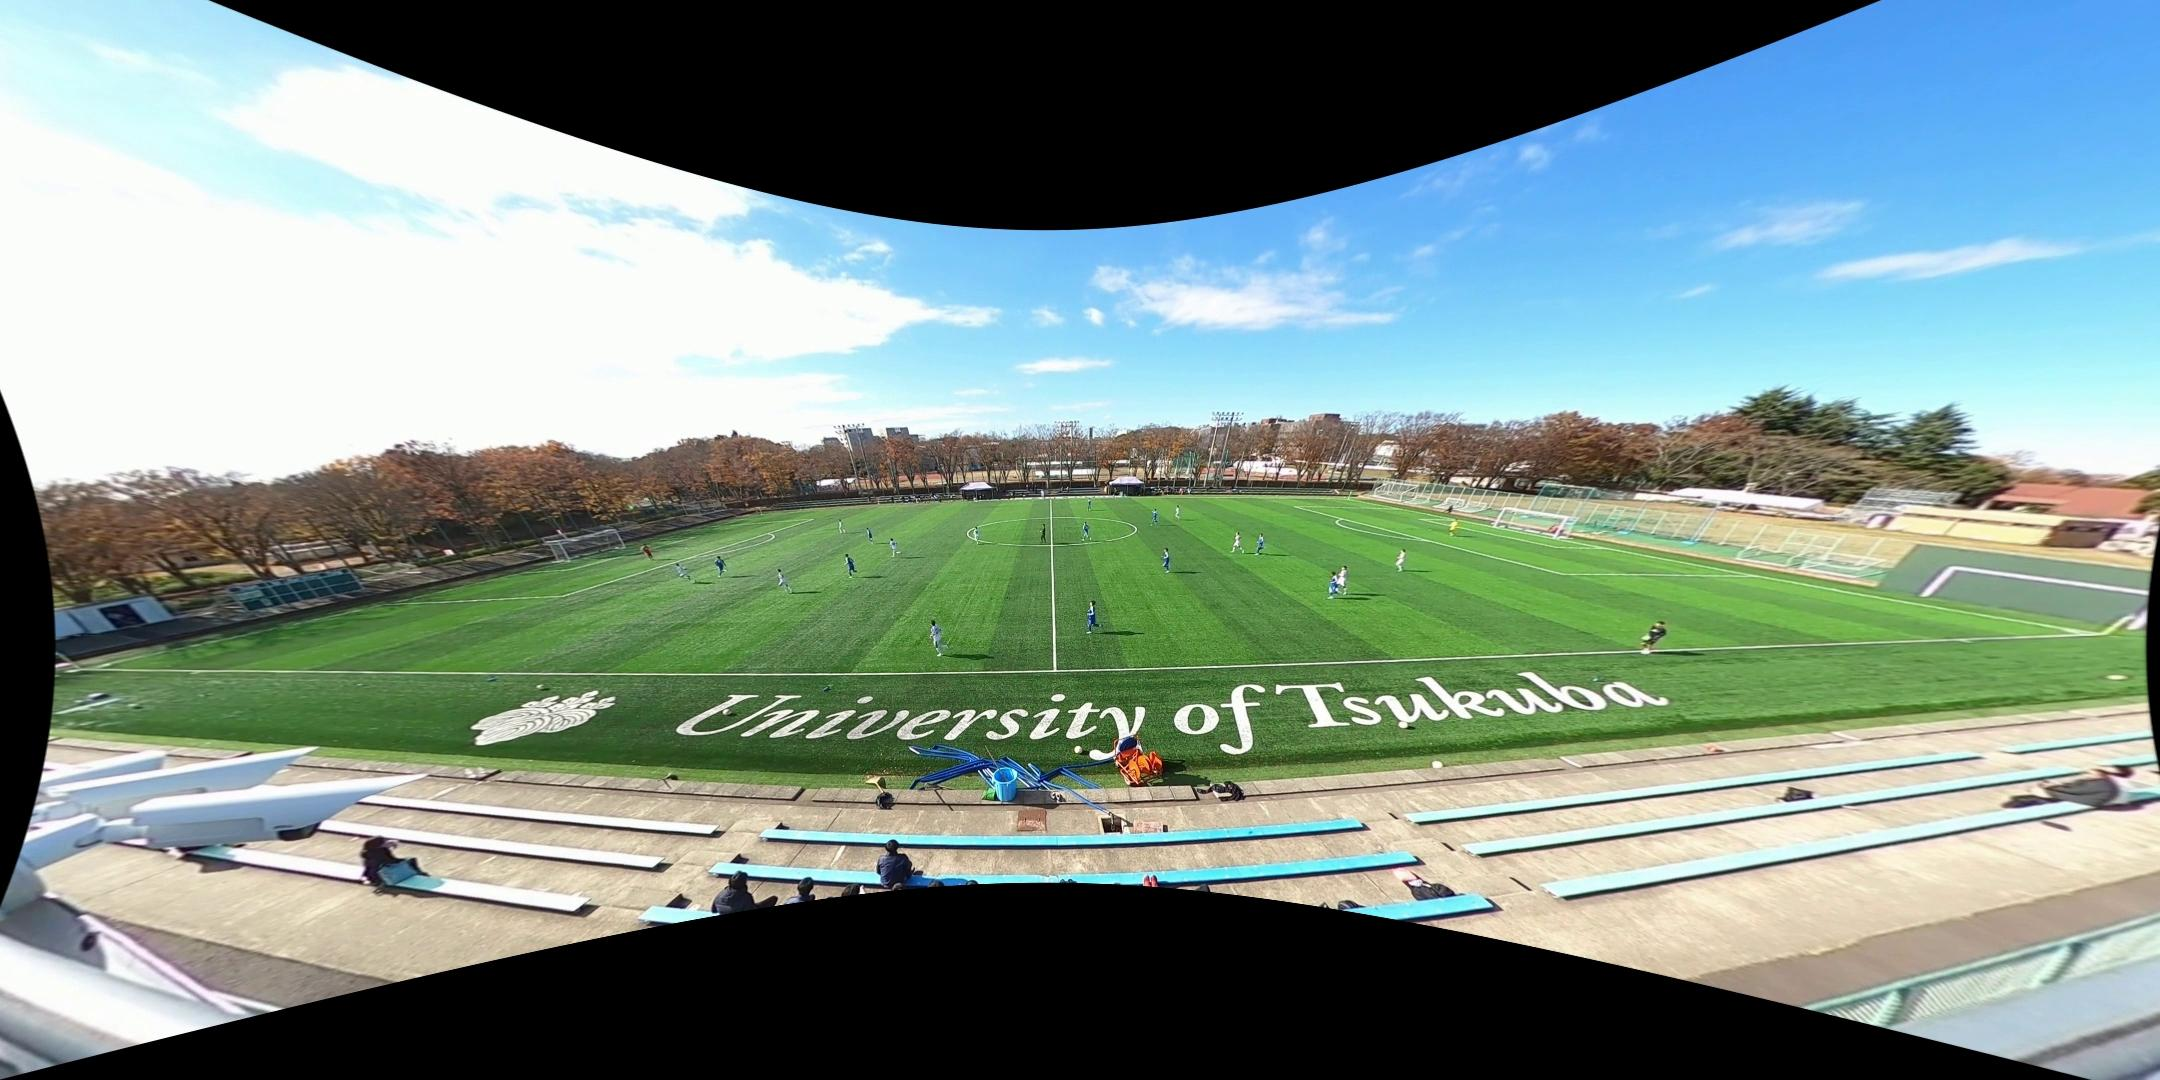person: (1641, 618, 1670, 657), (928, 619, 951, 657), (1085, 600, 1106, 636), (1332, 564, 1352, 595), (1327, 571, 1348, 600), (842, 553, 861, 579), (676, 562, 696, 585), (776, 567, 793, 594), (1230, 531, 1246, 555), (1395, 548, 1408, 573), (640, 542, 657, 561), (1162, 546, 1173, 575), (715, 555, 730, 576), (1254, 533, 1267, 556), (1448, 516, 1461, 538), (889, 538, 904, 557), (1081, 521, 1093, 543), (1149, 508, 1161, 527), (866, 525, 876, 546), (1040, 523, 1048, 545), (973, 526, 982, 545), (838, 518, 847, 534), (1175, 505, 1183, 522), (1086, 497, 1093, 512)
sports ball: (1431, 758, 1448, 772), (1396, 719, 1412, 731), (1072, 745, 1085, 756), (722, 707, 732, 717), (536, 682, 547, 691)
